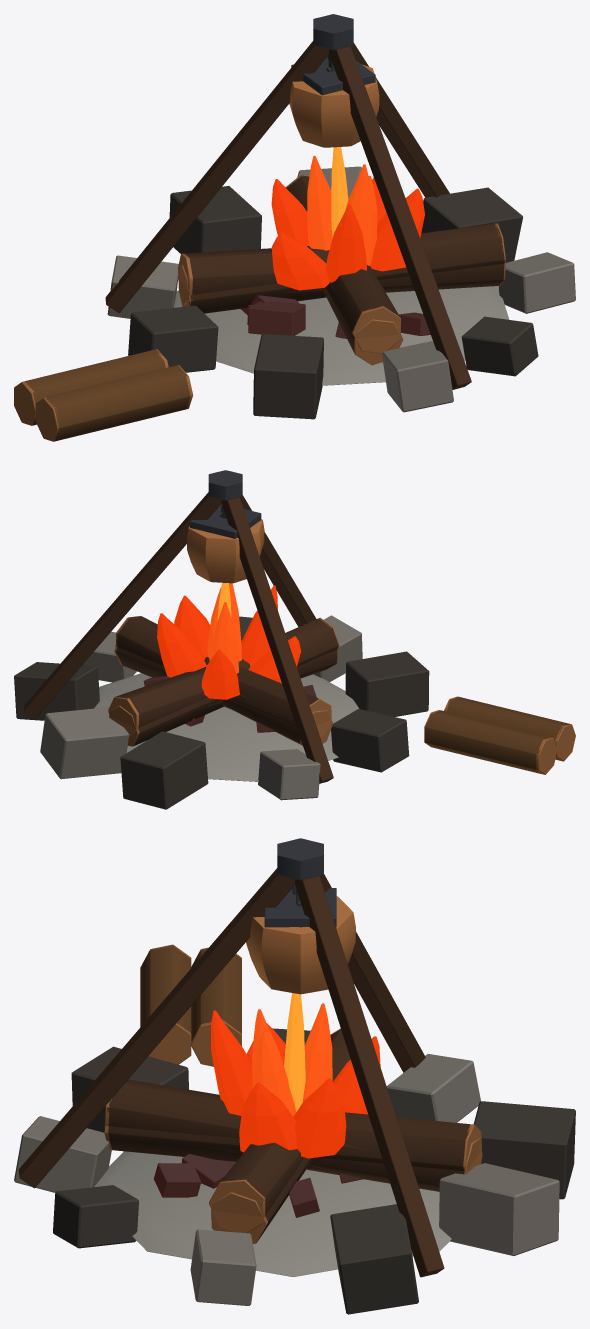
3 renders of one model, top to bottom at view 1: azimuth 30°, elevation 25°; view 2: azimuth 150°, elevation 25°; view 3: azimuth 270°, elevation 25°, orthographic. The views are drawn at different scales.
Visible parts, largest first — view 1: CF-wood_dark, CF-stone_dark, CF-stone_mid, CF-wood_mid, CF-ash, CF-flame_out, CF-wood_warm, CF-copper, CF-ember, CF-coal, CF-iron, CF-flame_in; view 2: CF-wood_dark, CF-stone_dark, CF-stone_mid, CF-ash, CF-wood_mid, CF-flame_out, CF-wood_warm, CF-copper, CF-iron, CF-ember, CF-coal; view 3: CF-wood_dark, CF-stone_mid, CF-stone_dark, CF-ash, CF-flame_out, CF-wood_warm, CF-copper, CF-wood_mid, CF-ember, CF-coal, CF-iron, CF-flame_in.
Boxes of the visible parts, x1=… form: CF-wood_dark: x1=105, y1=41, x2=504, y2=389; CF-stone_dark: x1=128, y1=186, x2=538, y2=419; CF-stone_mid: x1=107, y1=166, x2=575, y2=412; CF-wood_mid: x1=23, y1=349, x2=190, y2=441; CF-ash: x1=174, y1=248, x2=509, y2=385; CF-flame_out: x1=271, y1=177, x2=424, y2=290; CF-wood_warm: x1=14, y1=175, x2=505, y2=441; CF-copper: x1=289, y1=64, x2=379, y2=147; CF-ember: x1=307, y1=155, x2=377, y2=265; CF-coal: x1=241, y1=295, x2=430, y2=338; CF-iron: x1=291, y1=14, x2=375, y2=95; CF-flame_in: x1=331, y1=147, x2=348, y2=237; CF-wood_dark: x1=24, y1=492, x2=338, y2=783; CF-stone_dark: x1=14, y1=616, x2=429, y2=809; CF-stone_mid: x1=40, y1=615, x2=362, y2=800; CF-ash: x1=94, y1=673, x2=359, y2=781; CF-wood_mid: x1=425, y1=697, x2=570, y2=773; CF-flame_out: x1=157, y1=585, x2=301, y2=699; CF-wood_warm: x1=108, y1=616, x2=575, y2=774; CF-copper: x1=187, y1=519, x2=264, y2=583; CF-iron: x1=190, y1=470, x2=261, y2=538; CF-ember: x1=207, y1=583, x2=241, y2=673; CF-coal: x1=143, y1=676, x2=316, y2=732; CF-wood_dark: x1=18, y1=868, x2=470, y2=1277; CF-stone_mid: x1=14, y1=1054, x2=559, y2=1305; CF-stone_dark: x1=53, y1=1028, x2=575, y2=1314; CF-ash: x1=94, y1=1151, x2=451, y2=1276; CF-flame_out: x1=211, y1=1010, x2=380, y2=1158; CF-wood_warm: x1=104, y1=944, x2=482, y2=1243; CF-copper: x1=246, y1=896, x2=355, y2=994; CF-wood_mid: x1=140, y1=945, x2=241, y2=1041; CF-ember: x1=252, y1=1003, x2=332, y2=1116; CF-coal: x1=153, y1=1154, x2=363, y2=1217; CF-iron: x1=264, y1=838, x2=336, y2=927; CF-flame_in: x1=284, y1=993, x2=305, y2=1111.
Bounding box in the file's own units: 2.05 × 1.07 × 1.56.
